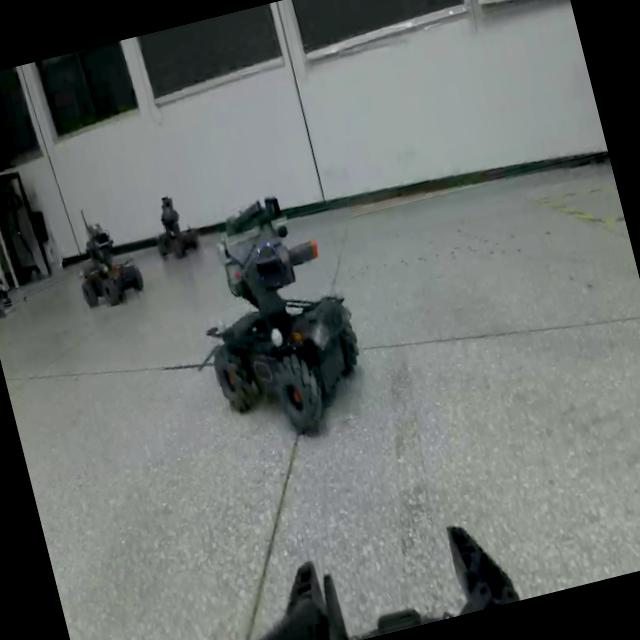s1: (168, 165, 388, 456), (60, 194, 149, 316), (143, 183, 204, 266)
